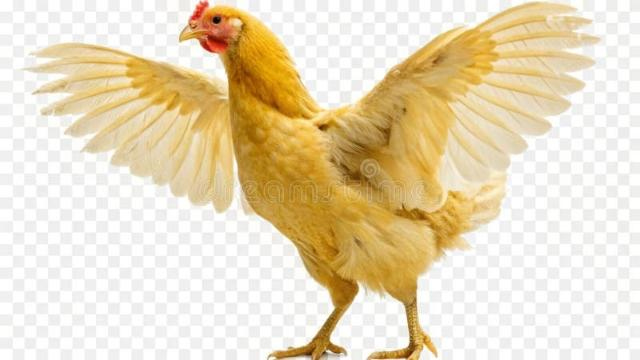Chicken: (30, 0, 600, 360)
